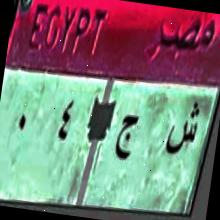0: (14, 97, 34, 144)
4: (49, 93, 80, 154)
jeem: (109, 108, 143, 174)
sheen: (161, 92, 206, 165)
